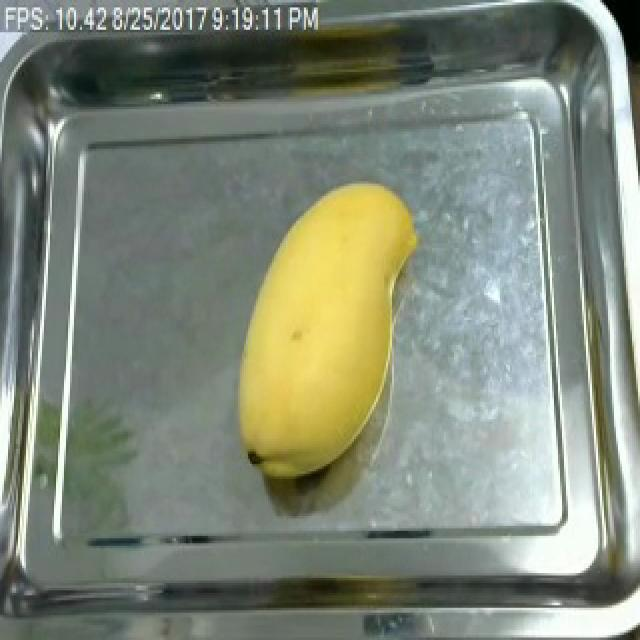fruit: (224, 166, 412, 496)
